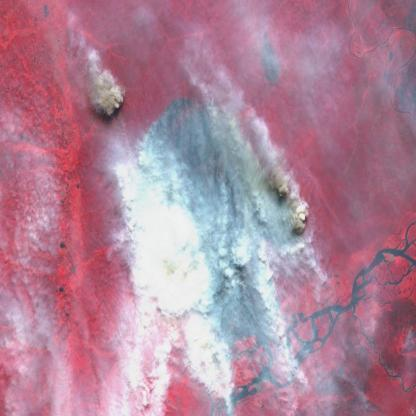fire: (94, 64, 316, 378)
